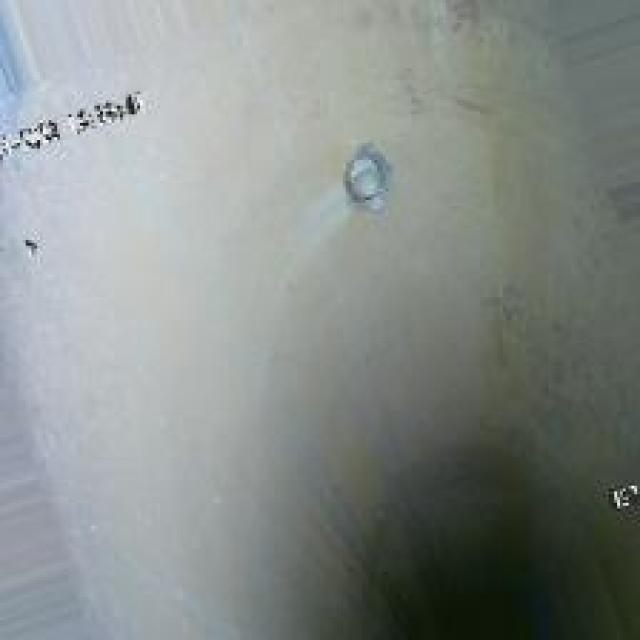ferrule: (332, 146, 394, 211)
